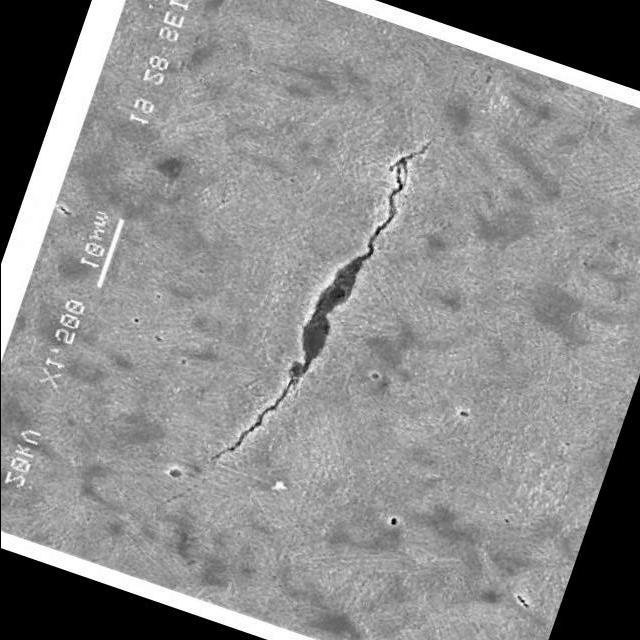defect: (194, 130, 436, 471)
